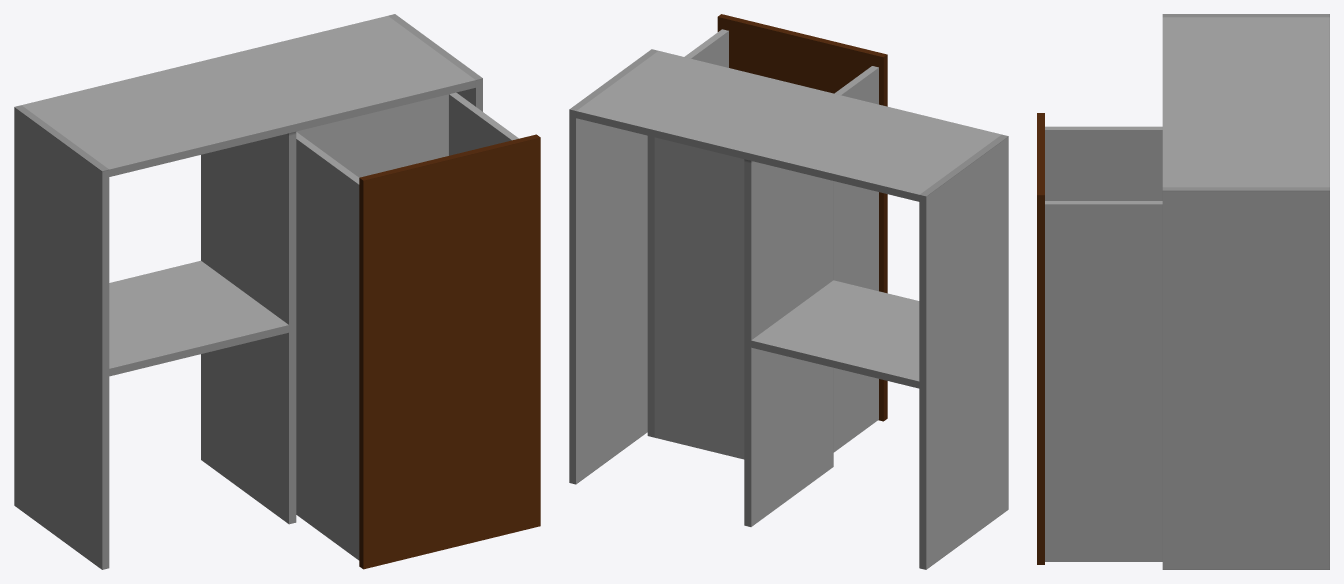
Rendered from meuble_68fb4baf5fcb3.glb.
The picture shows the model from 3 angles, left to right: view 1: azimuth 30°, elevation 25°; view 2: azimuth 150°, elevation 25°; view 3: azimuth 270°, elevation 25°; orthographic projection. The views are drawn at different scales.
Visible parts, largest first — view 1: world; view 2: world; view 3: world.
Boxes of the visible parts, x1,y1,x2,y2 form: world: [14, 14, 540, 569]; world: [569, 14, 1008, 569]; world: [1037, 14, 1329, 569].
Size of the model in its own units: 1 by 1 by 0.7.
1 material, 1 textured.
